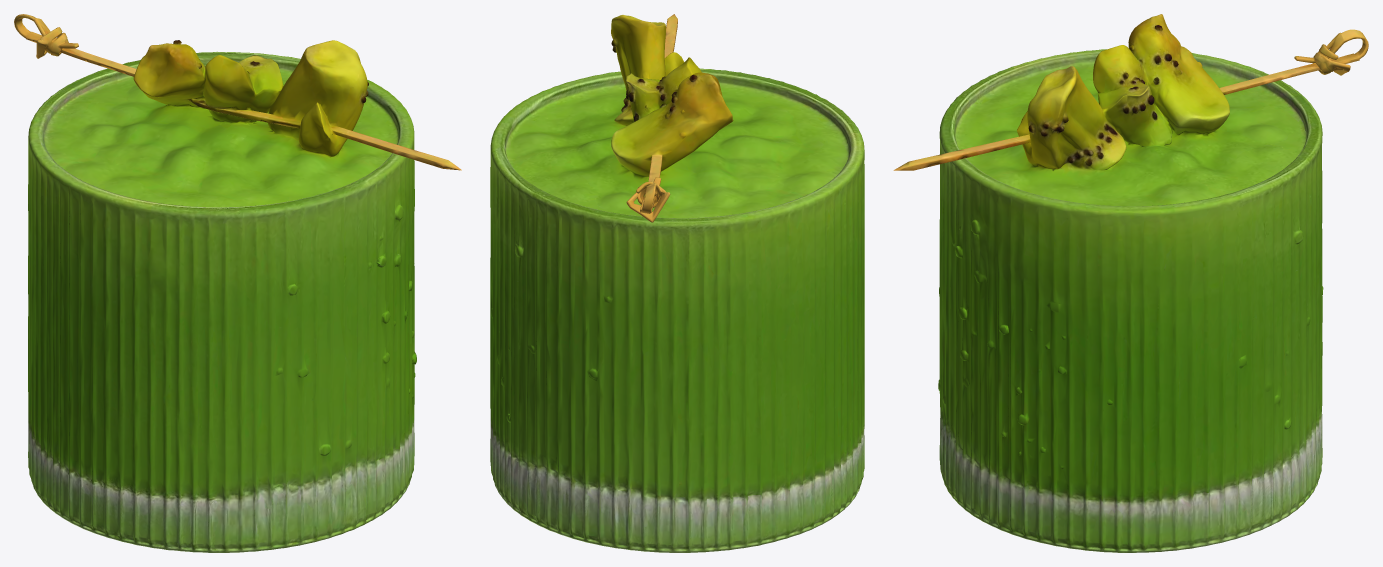
Rendered from modelo-01.glb.
The picture shows the model from 3 angles, left to right: view 1: azimuth 30°, elevation 25°; view 2: azimuth 150°, elevation 25°; view 3: azimuth 270°, elevation 25°; orthographic projection. The views are drawn at different scales.
Parts seen in each view (by area): view 1: tripo_node_dd05dc17-0e28-4ca0-9eeb-1e66662bb8a1; view 2: tripo_node_dd05dc17-0e28-4ca0-9eeb-1e66662bb8a1; view 3: tripo_node_dd05dc17-0e28-4ca0-9eeb-1e66662bb8a1.
Boxes of the visible parts, box(x1,y1,x2,y2) form: tripo_node_dd05dc17-0e28-4ca0-9eeb-1e66662bb8a1: box(14, 14, 461, 552); tripo_node_dd05dc17-0e28-4ca0-9eeb-1e66662bb8a1: box(490, 14, 864, 552); tripo_node_dd05dc17-0e28-4ca0-9eeb-1e66662bb8a1: box(893, 14, 1368, 552).
Size of the model in its own units: 0.7963 by 0.9803 by 0.9699.
1 material, 1 textured.
